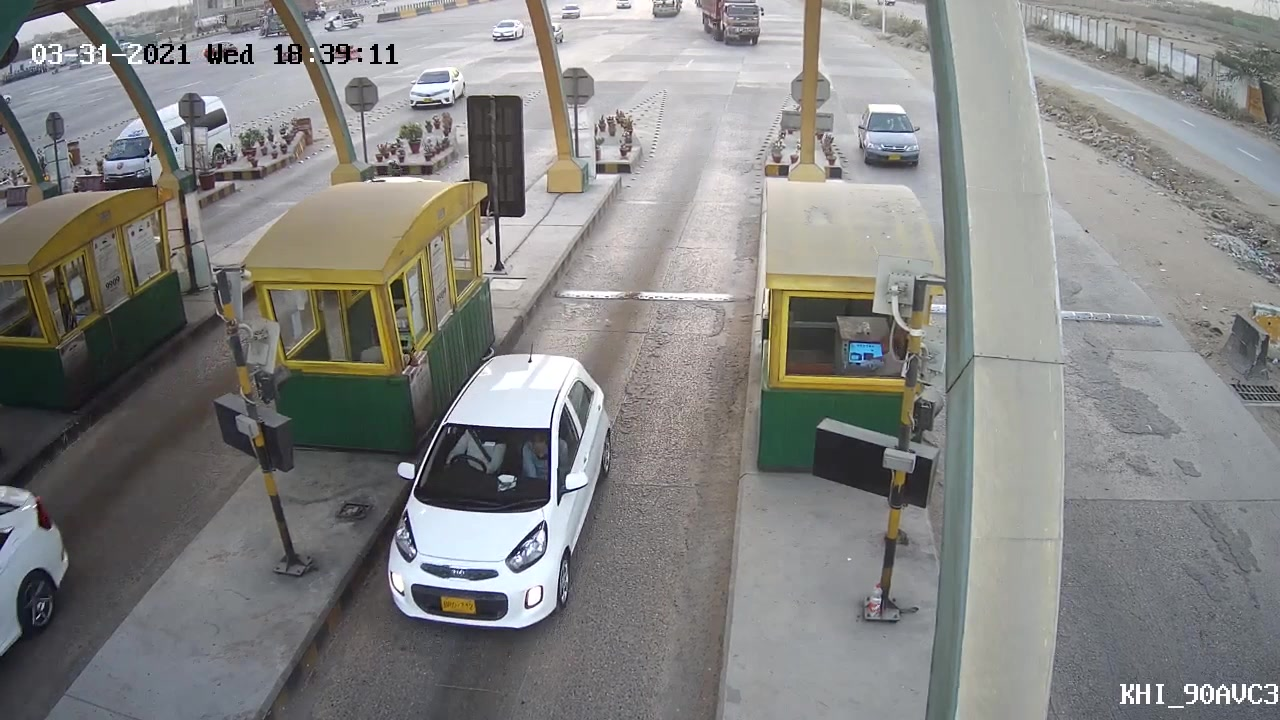F1: (373, 333, 622, 641)
